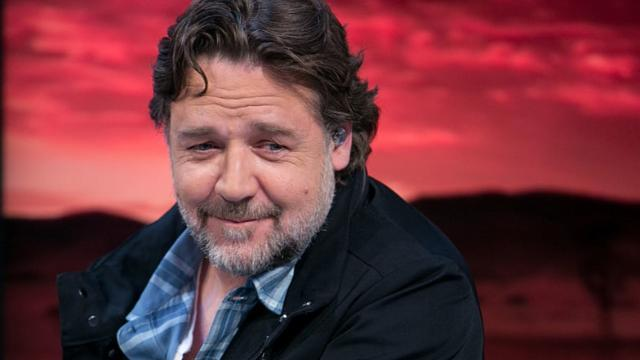crows_feet: (174, 150, 192, 166), (284, 151, 302, 165)
forehead: (198, 92, 278, 112)
gummy_smile: (198, 178, 220, 202), (253, 178, 273, 204)
